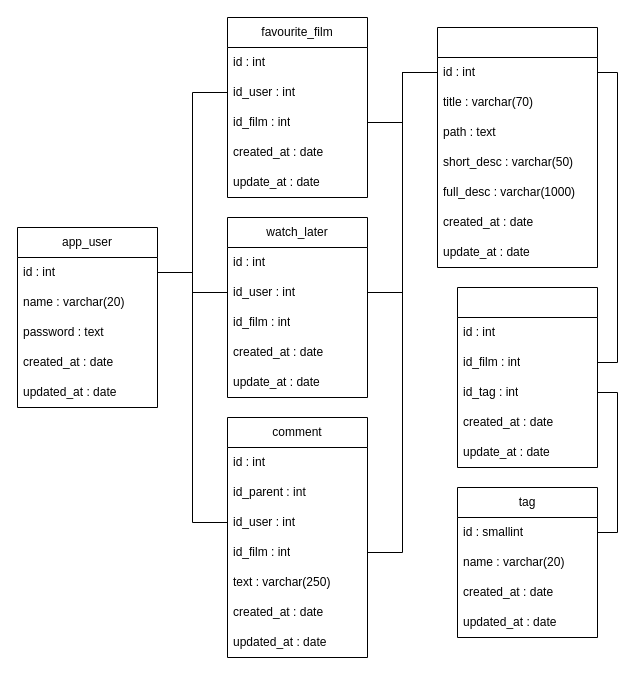
Some shapes in this 636 by 675 pixel diagram are drawn without their labels. The shapes that lost their labels are listed below. From the top down, each one's box as (x1, y1, x2, y2) in pixels, then its label:
(436, 26, 598, 268): film
(456, 286, 598, 468): film_tag
